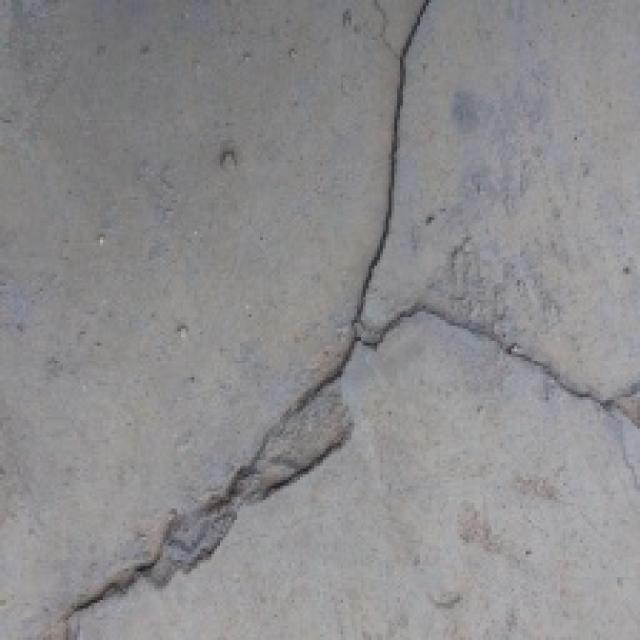SurfaceCrack: (298, 260, 640, 470)
